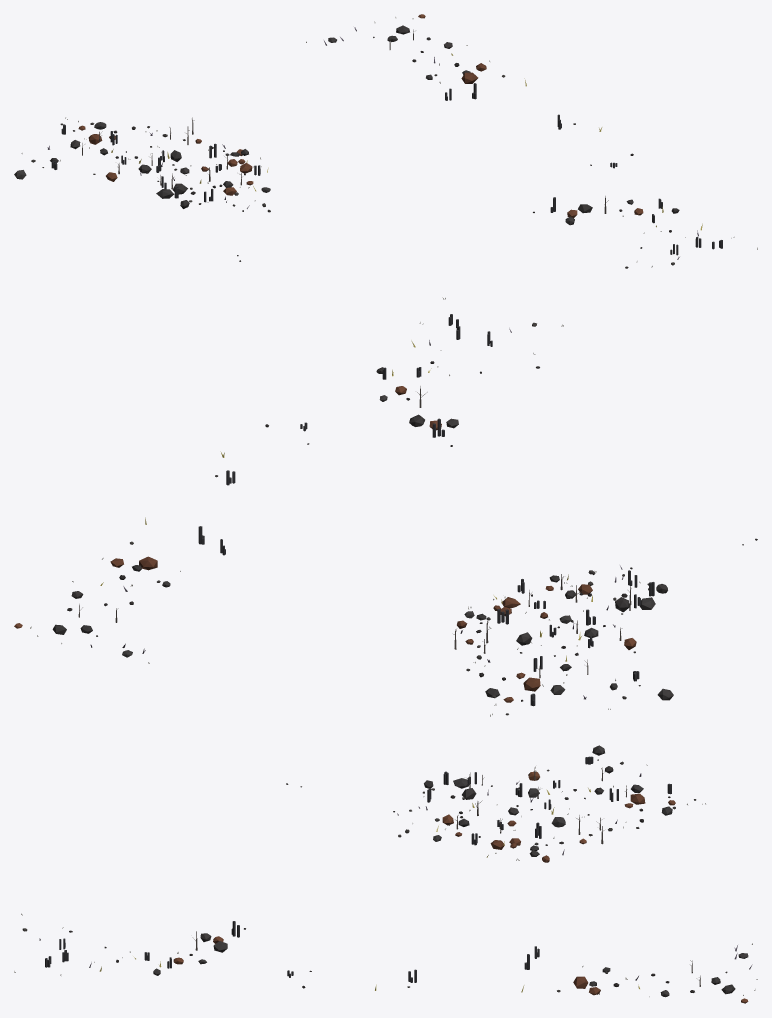
Rendered from ash_land_scatter_c20_30_lod1.glb.
3 views of the same model, one above another, from view 1: azimuth 30°, elevation 25°; view 2: azimuth 150°, elevation 25°; view 3: azimuth 270°, elevation 25° (orthographic). The views are drawn at different scales.
Parts seen in each view (by area): view 1: ash_land_scatter_c20_30_lod1; view 2: ash_land_scatter_c20_30_lod1; view 3: ash_land_scatter_c20_30_lod1.
Boxes of the visible parts, box(x1,y1,x2,y2) form: ash_land_scatter_c20_30_lod1: box(14, 14, 757, 268); ash_land_scatter_c20_30_lod1: box(14, 297, 757, 716); ash_land_scatter_c20_30_lod1: box(14, 745, 757, 1003).
Size of the model in its own units: 201 by 14.23 by 255.
